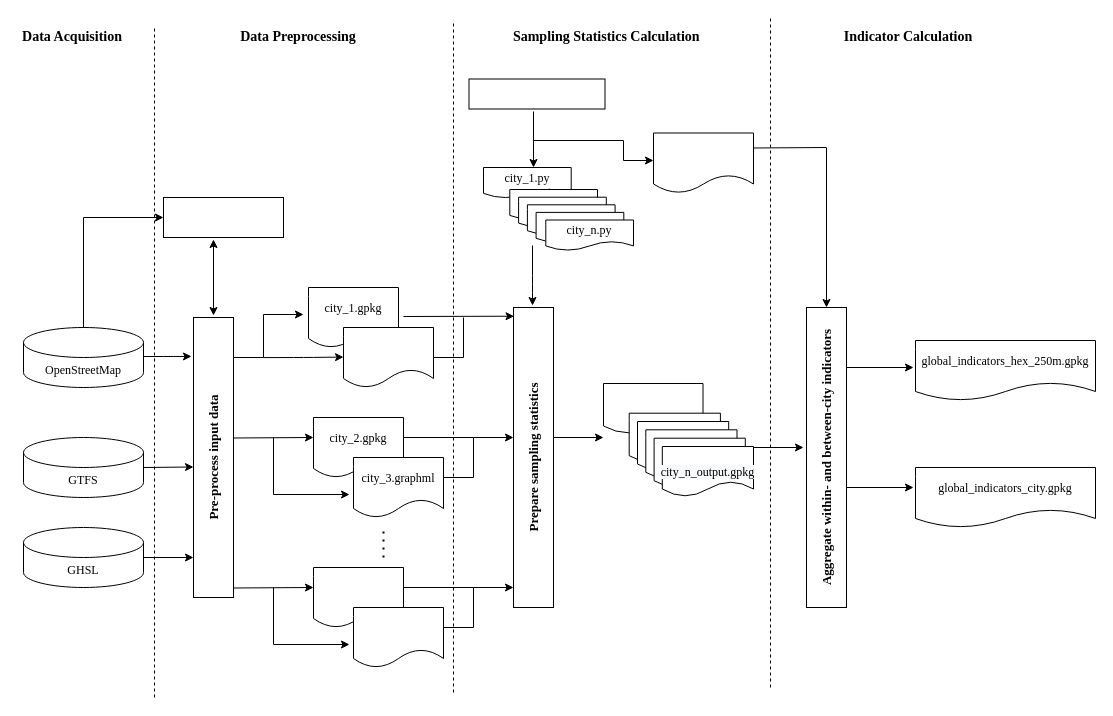
Some shapes in this 1113 by 716 pixel diagram are drawn without their labels. Here are the shapes that lost their labels. From the top down, the centre of each, then its label:
At point (536, 93): "Setup configuration".
At point (703, 162): "cities.py".
At point (223, 217): "Technical validation".
At point (388, 357): "city_1.graphml".
At point (652, 408): "city_1_output.gpkg".
At point (358, 597): "city_n.gpkg".
At point (398, 637): "city_n.graphml".
